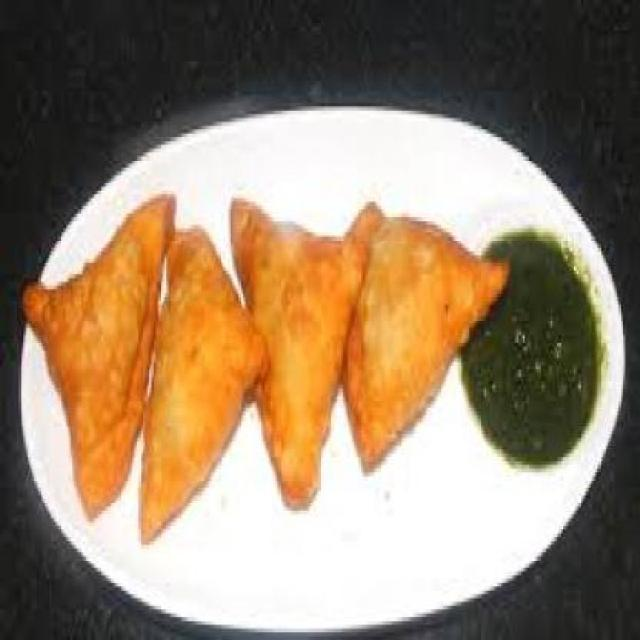samosa: (20, 193, 176, 521), (342, 199, 509, 472), (229, 198, 371, 510), (137, 224, 270, 546)
